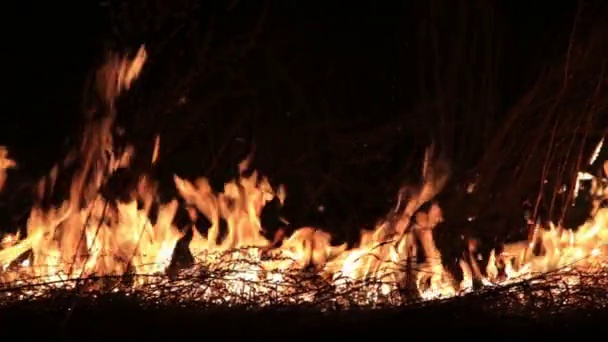fire: (178, 168, 457, 301), (1, 134, 181, 291), (477, 163, 608, 286), (110, 45, 148, 93), (461, 258, 474, 294)
